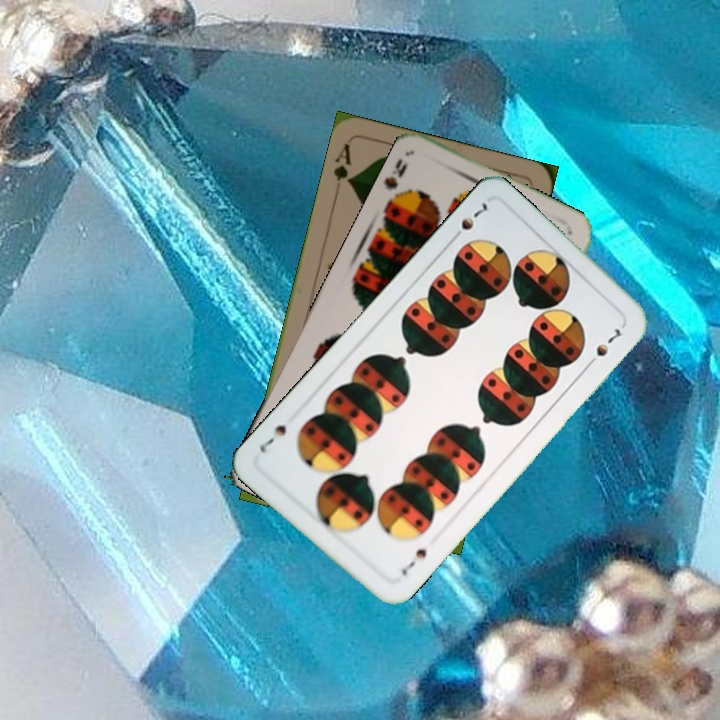GA: (329, 139, 355, 187)
S7: (446, 199, 490, 245), (397, 544, 429, 579)
S9: (381, 154, 411, 209)
